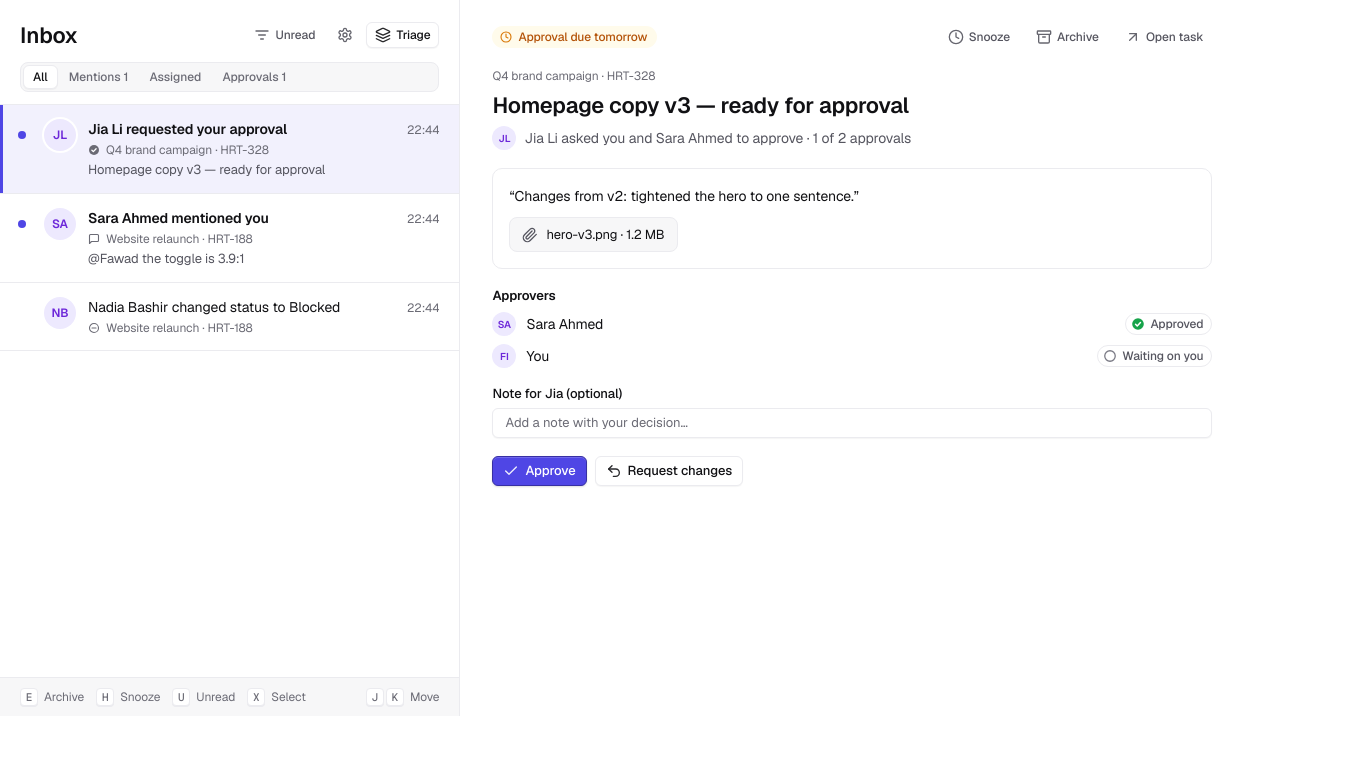
InboxPage › phone triage (?triage=1) › the list header offers Triage on phones
The image size is (1366, 768).
Click the button "Triage".
click(403, 35)  # box x1=366 y1=22 x2=440 y2=48
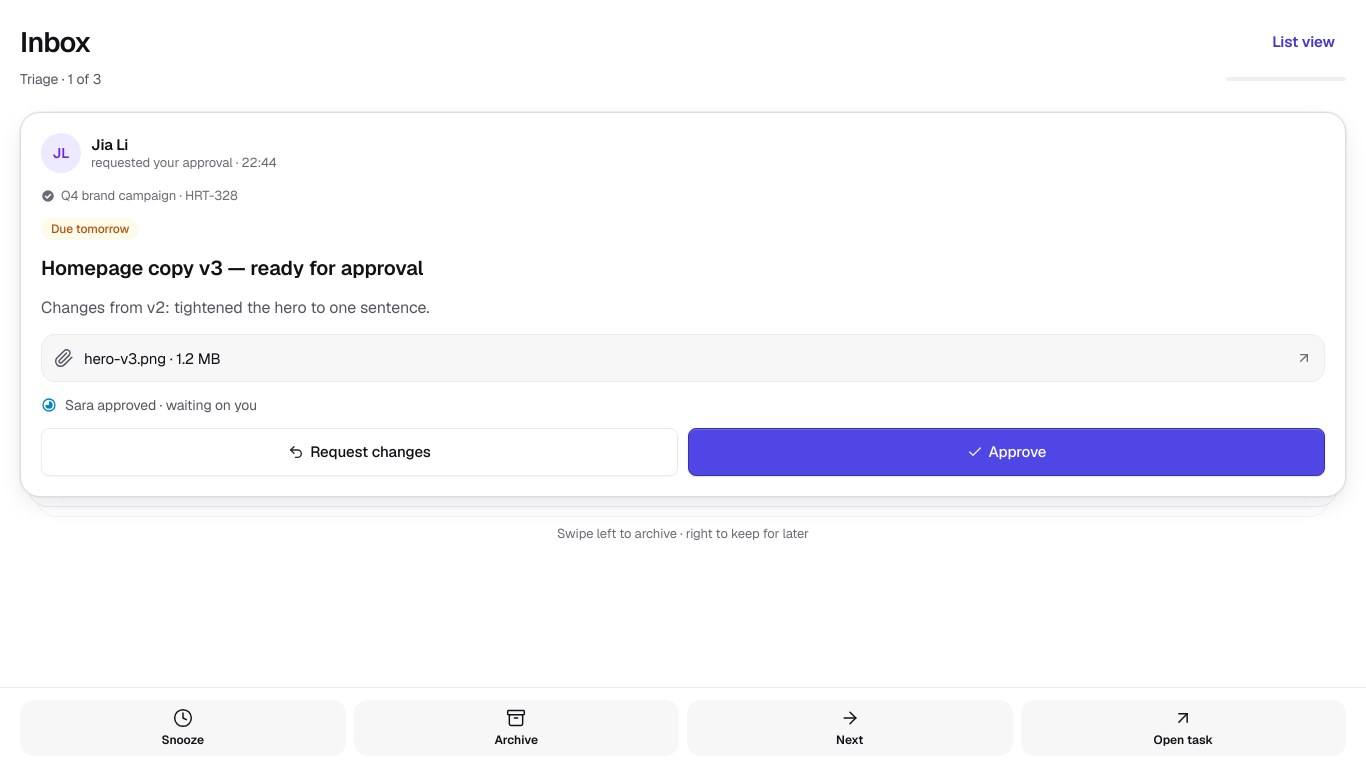
Expected: the navigation bar named "Triage actions" is shown, x1=0 y1=687 x2=1365 y2=767
